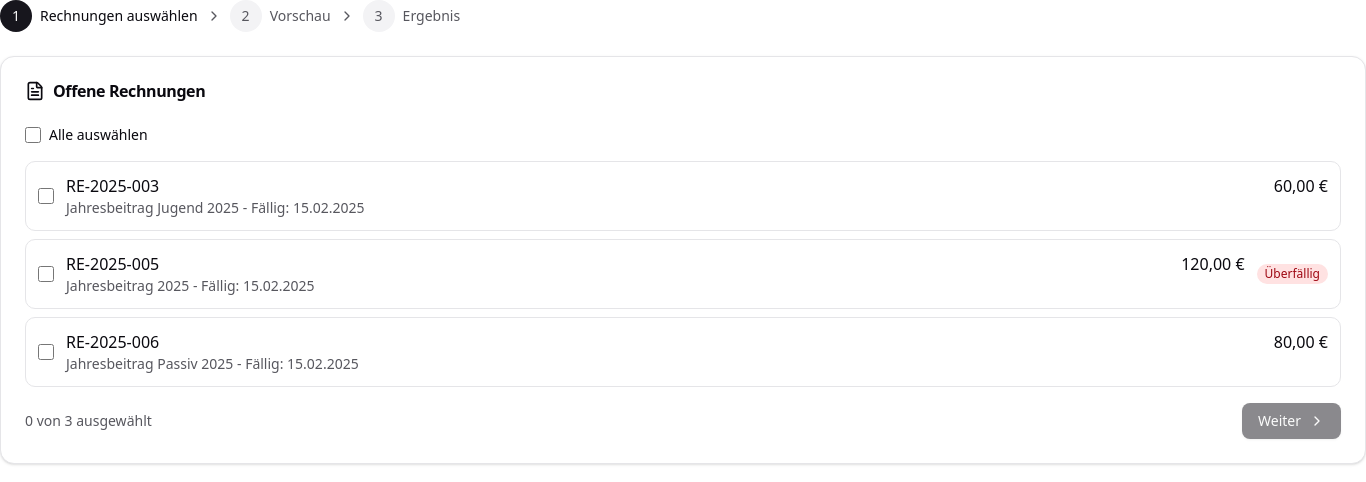
Test: SepaGenerator › shows total for selected invoices
The width and height of the screenshot is (1366, 482).
Check: the text "RE-2025-003" is shown, box [66, 174, 159, 198]
Check: the text "0 von 3 ausgewählt" is shown, box [25, 411, 152, 431]
# Select first invoice (60 EUR) and second invoice (120 EUR)
What coordinates should you click on to do the following:
click the 2nd checkbox
I would click on:
 (46, 196)
Its box is [38, 188, 54, 204].
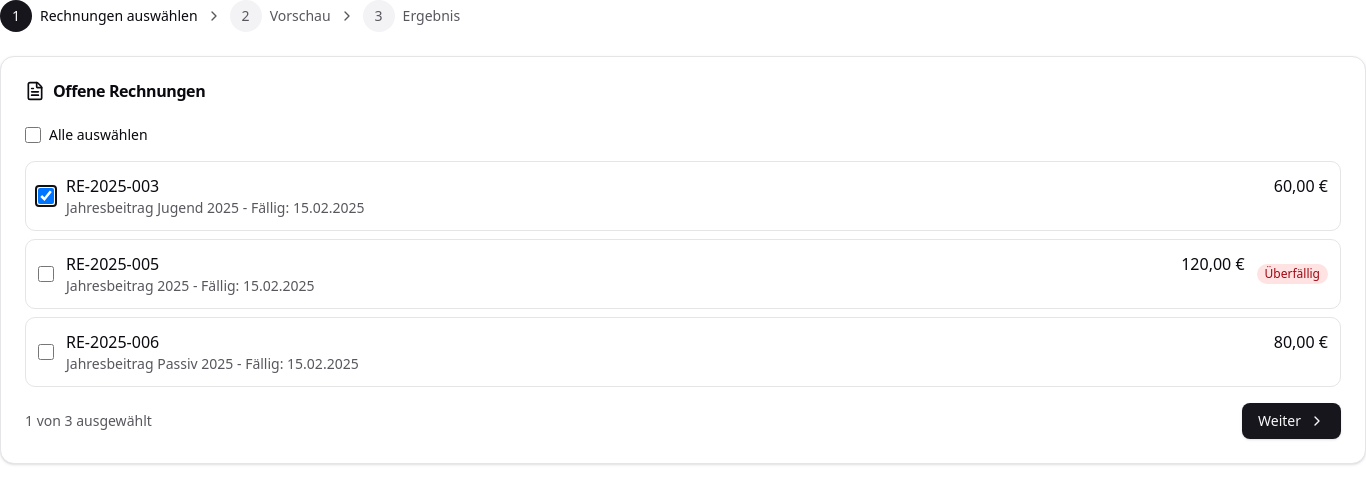
What coordinates should you click on to do the following:
click the 3rd checkbox
I would click on:
 (46, 274)
Its box is [38, 266, 54, 282].
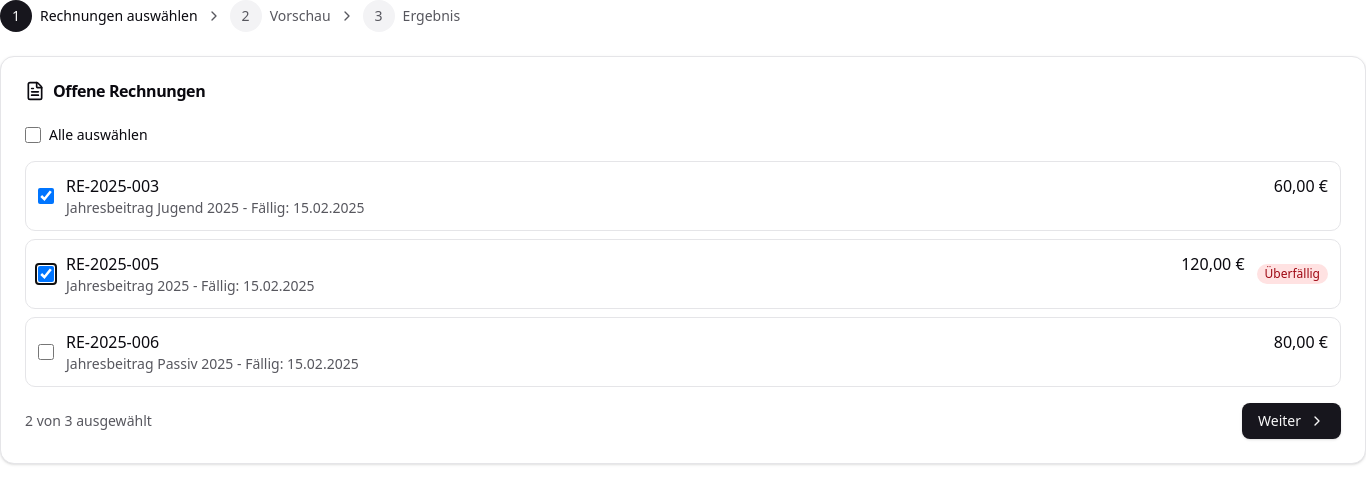
Check: the text "2 von 3 ausgewählt" is shown, box [25, 411, 152, 431]
